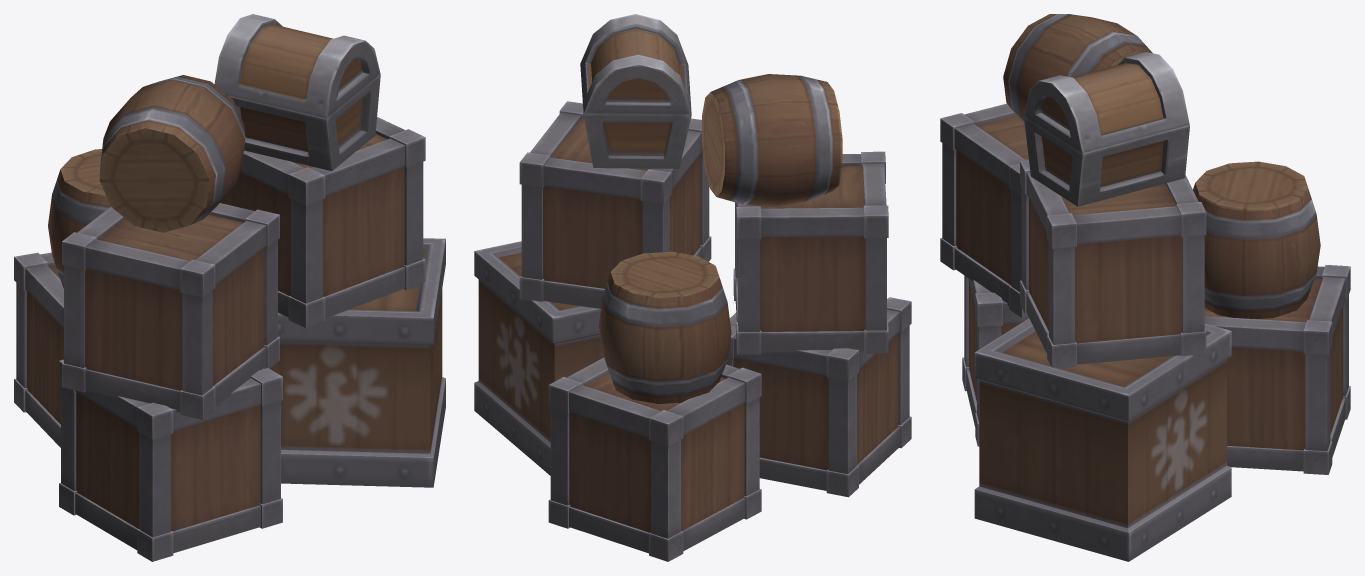
Rendered from wj_qws_224_sm.fbx.
3 views of the same model, side by side, from view 1: azimuth 30°, elevation 25°; view 2: azimuth 150°, elevation 25°; view 3: azimuth 270°, elevation 25° (orthographic). The views are drawn at different scales.
Visible parts, largest first — view 1: wj_qws_224_sm; view 2: wj_qws_224_sm; view 3: wj_qws_224_sm.
Boxes of the visible parts, <box> form: wj_qws_224_sm: <box>14,14,445,561</box>; wj_qws_224_sm: <box>474,14,911,561</box>; wj_qws_224_sm: <box>940,14,1350,561</box>.
Size of the model in its own units: 3.1 by 3.06 by 2.73.
Materials: 1 (1 with a texture image).
